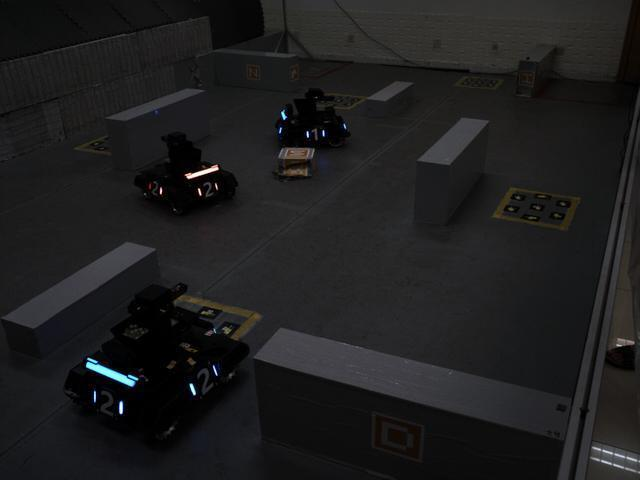armor: (83, 379, 128, 428), (183, 362, 225, 402), (192, 176, 222, 201), (145, 175, 166, 202), (301, 124, 328, 145)
